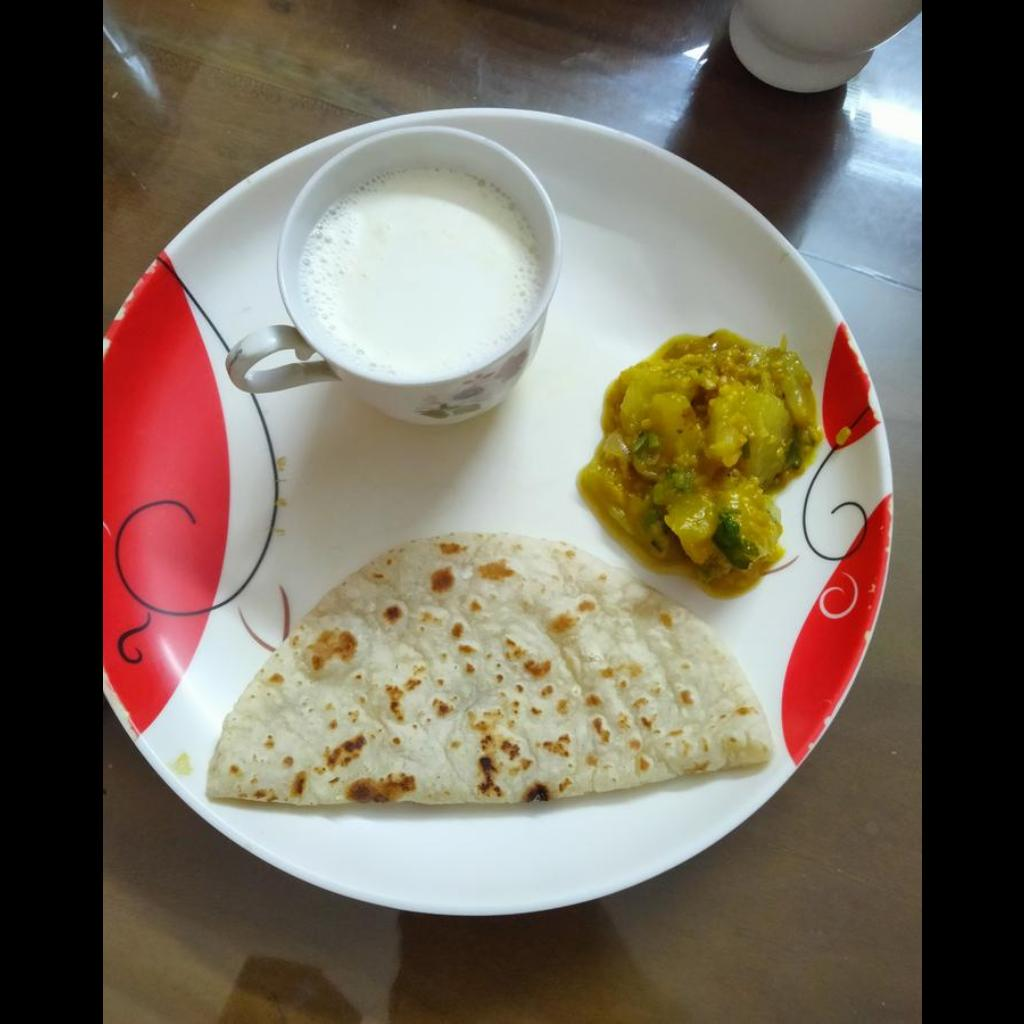milk: (301, 167, 536, 376)
ruti: (202, 530, 774, 811)
vaji: (576, 332, 824, 589)
